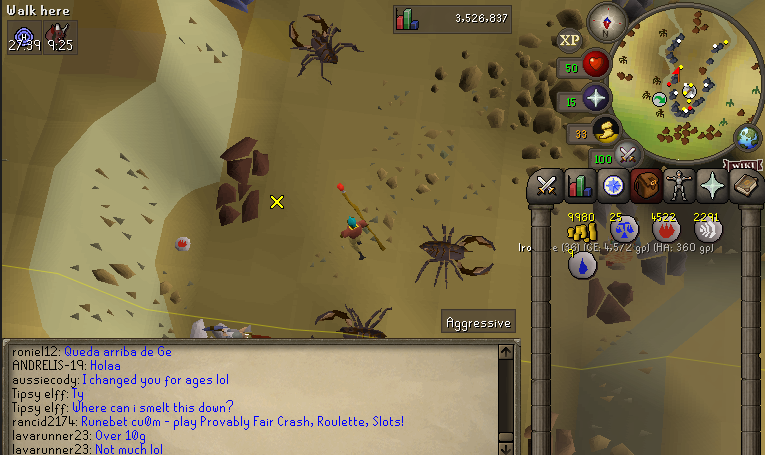iron: (218, 132, 275, 184), (213, 179, 267, 229)
